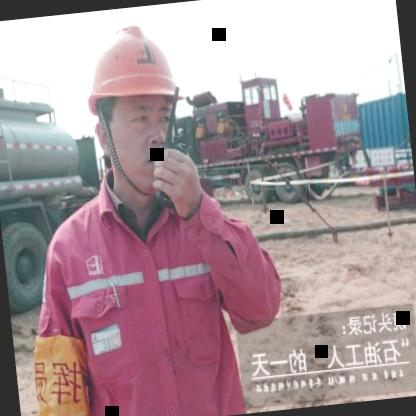helmet: (62, 11, 201, 203)
